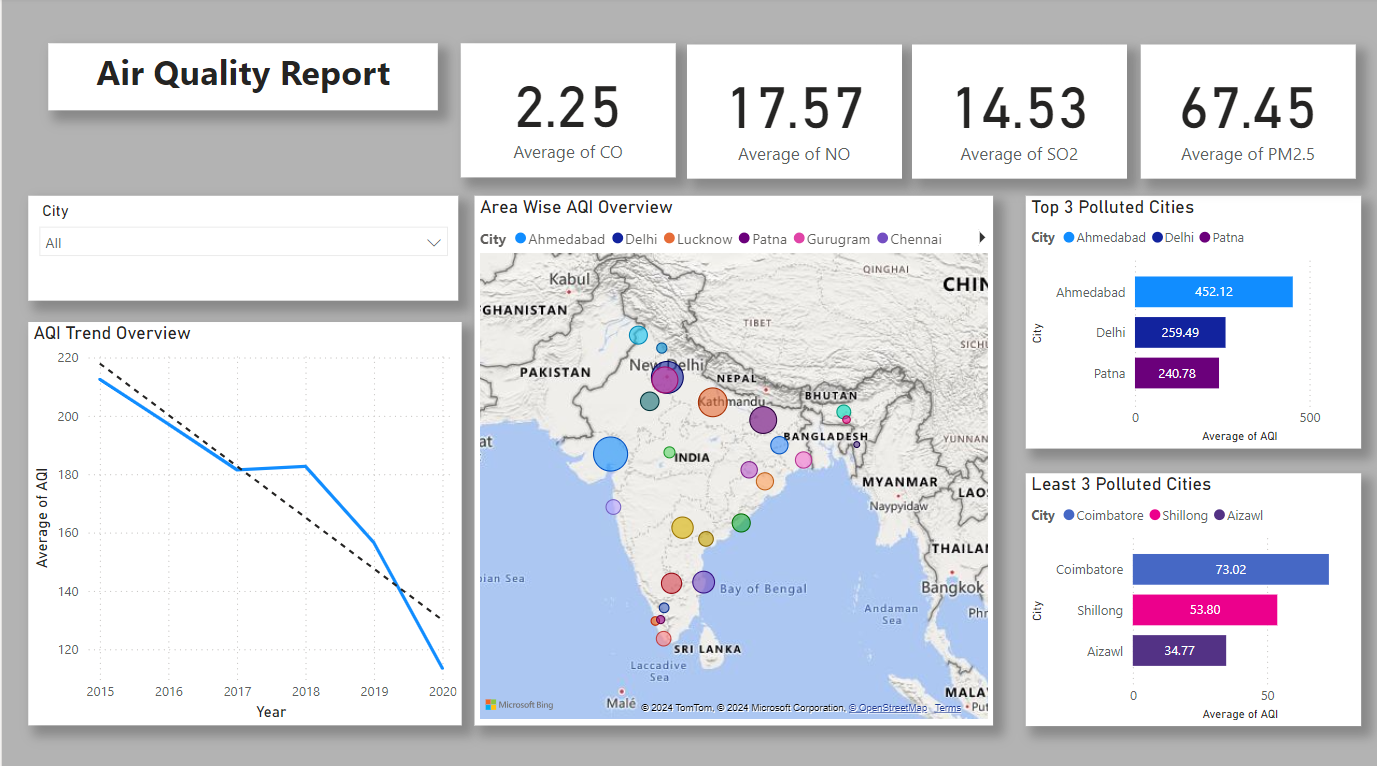

The dashboard page shown, as its layout file describes it:
{"tool":"powerbi","page":{"name":"Page 1","canvas":[1280,720],"ordinal":0},"visuals":[{"type":"lineChart","title":"AQI Trend Overview","fields":{"Category":["city_day.Date.Variation.Date Hierarchy.Year","city_day.Date.Variation.Date Hierarchy.Quarter","city_day.Date.Variation.Date Hierarchy.Month","city_day.Date.Variation.Date Hierarchy.Day"],"Y":["Avg(city_day.AQI)"]},"box":[24.4,302.3,403.5,375.6],"z":0},{"type":"slicer","fields":{"Values":["city_day.City"]},"box":[24.4,184.9,400,97.7],"z":1000},{"type":"barChart","title":"Top 3 Polluted Cities","fields":{"Category":["city_day.City"],"Y":["Avg(city_day.AQI)"],"Series":["city_day.City"]},"box":[952.3,184.9,311.6,234.9],"z":2000},{"type":"barChart","title":"Least 3 Polluted Cities","fields":{"Category":["city_day.City"],"Y":["Avg(city_day.AQI)"],"Series":["city_day.City"]},"box":[952.3,443,311.6,234.9],"z":3000},{"type":"card","fields":{"Values":["Avg(city_day.CO)"]},"box":[426.7,27.7,200,125],"z":4000},{"type":"card","fields":{"Values":["Avg(city_day.NO)"]},"box":[637.2,28.9,200,125],"z":5000},{"type":"card","fields":{"Values":["Avg(city_day.SO2)"]},"box":[846.5,28.9,200,125],"z":6000},{"type":"card","fields":{"Values":["Avg(city_day.PM2.5)"]},"box":[1059.3,28.9,200,125],"z":7000},{"type":"map","title":"Area Wise AQI Overview","fields":{"Category":["city_day.City"],"Size":["Sum(city_day.AQI)"],"Series":["city_day.City"]},"box":[439.5,184.9,482.6,493],"z":8000},{"type":"textbox","box":[45,35,363,63],"z":9000}]}

Visuals, with their boxes in screenshot pixels (x1, y1, x2, y2), scaled from the page's 1280x720 canvas onto the 1377x766 screenshot:
"AQI Trend Overview" lineChart: x1=26 y1=322 x2=460 y2=721
slicer - city_day.City: x1=26 y1=197 x2=457 y2=301
"Top 3 Polluted Cities" barChart: x1=1024 y1=197 x2=1360 y2=447
"Least 3 Polluted Cities" barChart: x1=1024 y1=471 x2=1360 y2=721
card - Avg(city_day.CO): x1=459 y1=29 x2=674 y2=162
card - Avg(city_day.NO): x1=685 y1=31 x2=901 y2=164
card - Avg(city_day.SO2): x1=911 y1=31 x2=1126 y2=164
card - Avg(city_day.PM2.5): x1=1140 y1=31 x2=1355 y2=164
"Area Wise AQI Overview" map: x1=473 y1=197 x2=992 y2=721
textbox: x1=48 y1=37 x2=439 y2=104
